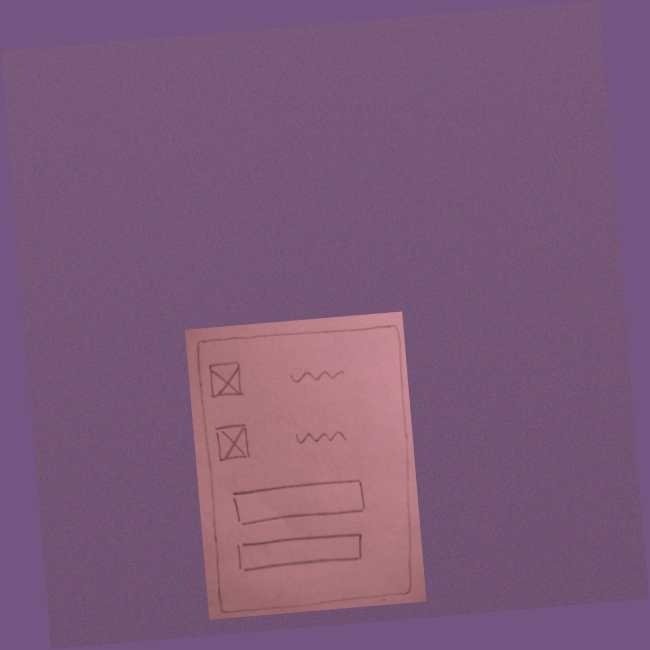image: (205, 359, 247, 400), (211, 422, 253, 463)
text: (289, 425, 351, 448), (286, 364, 348, 386)
text_input: (228, 476, 373, 527), (232, 530, 366, 573)
